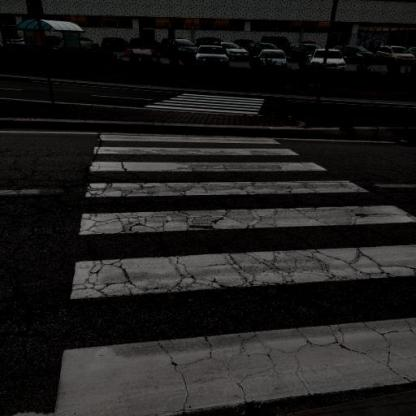crosswalk: (43, 238, 416, 415), (80, 158, 369, 202)
